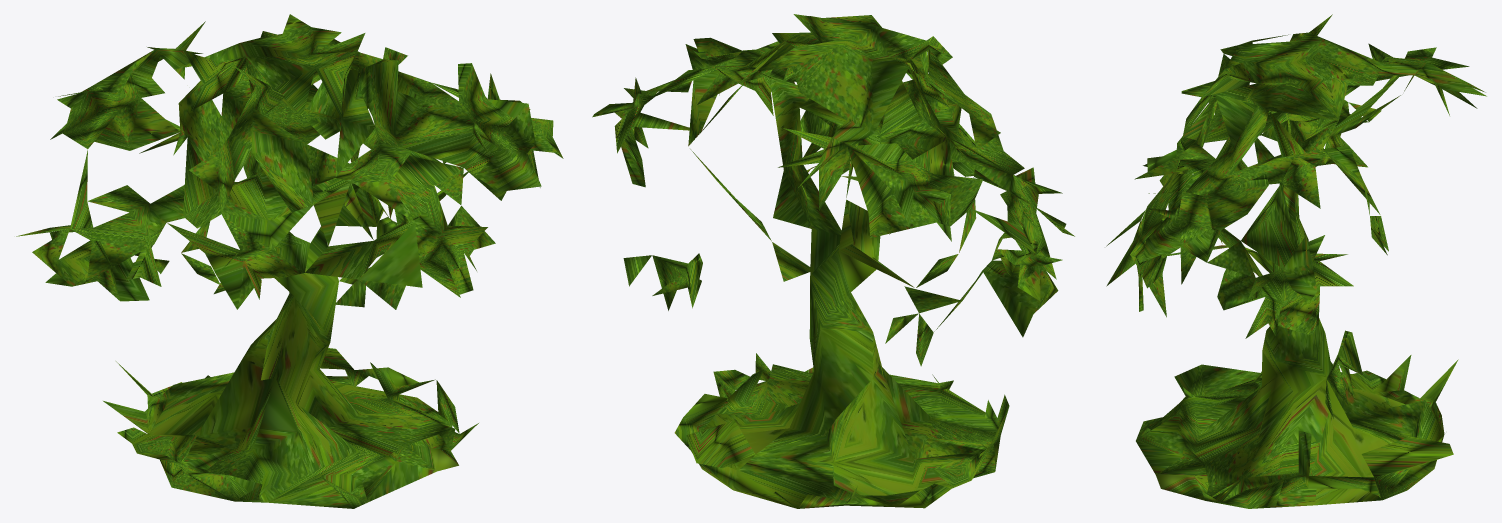
File: mulberry_far.glb
The picture shows the model from 3 angles, left to right: view 1: azimuth 30°, elevation 25°; view 2: azimuth 150°, elevation 25°; view 3: azimuth 270°, elevation 25°; orthographic projection. The views are drawn at different scales.
Visible parts, largest first — view 1: tripo_node_aaaf4d65-dc5f-44b6-bb8e-cd37d8e47e1b; view 2: tripo_node_aaaf4d65-dc5f-44b6-bb8e-cd37d8e47e1b; view 3: tripo_node_aaaf4d65-dc5f-44b6-bb8e-cd37d8e47e1b.
Boxes of the visible parts, <box> form: tripo_node_aaaf4d65-dc5f-44b6-bb8e-cd37d8e47e1b: <box>16,14,563,508</box>; tripo_node_aaaf4d65-dc5f-44b6-bb8e-cd37d8e47e1b: <box>592,14,1074,508</box>; tripo_node_aaaf4d65-dc5f-44b6-bb8e-cd37d8e47e1b: <box>1106,14,1486,508</box>.
Size of the model in its own units: 0.9563 by 0.777 by 0.682.
Materials: 1 (1 with a texture image).
